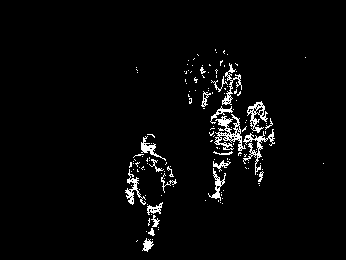person: (126, 131, 176, 249), (210, 101, 242, 201), (242, 101, 275, 187), (224, 62, 242, 105)
